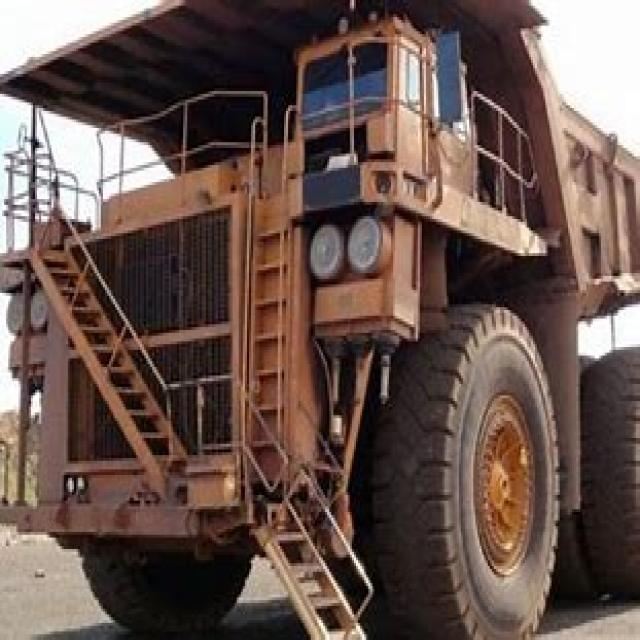dump_truck: (8, 0, 638, 626)
